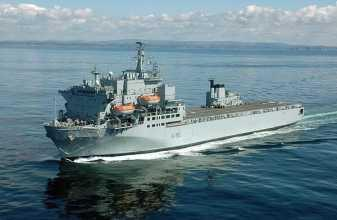warship: (38, 33, 306, 159)
